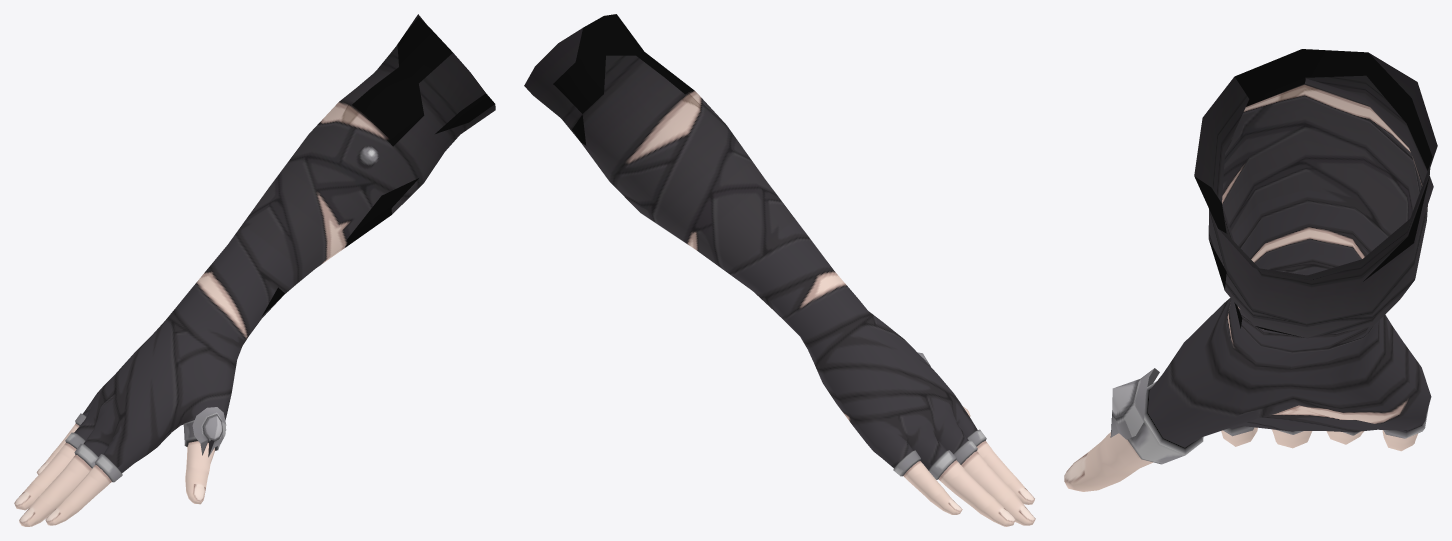
File: W_Arm_R.glb
The picture shows the model from 3 angles, left to right: view 1: azimuth 30°, elevation 25°; view 2: azimuth 150°, elevation 25°; view 3: azimuth 270°, elevation 25°; orthographic projection. The views are drawn at different scales.
Visible parts, largest first — view 1: W_Arm_R; view 2: W_Arm_R; view 3: W_Arm_R.
Boxes of the visible parts, box(x1,y1,x2,y2) form: W_Arm_R: box(14, 14, 495, 526); W_Arm_R: box(524, 14, 1035, 526); W_Arm_R: box(1064, 49, 1437, 491).
Bounding box in the file's own units: 0.3746 × 0.3014 × 0.1292.
Materials: 2 (2 with a texture image).
